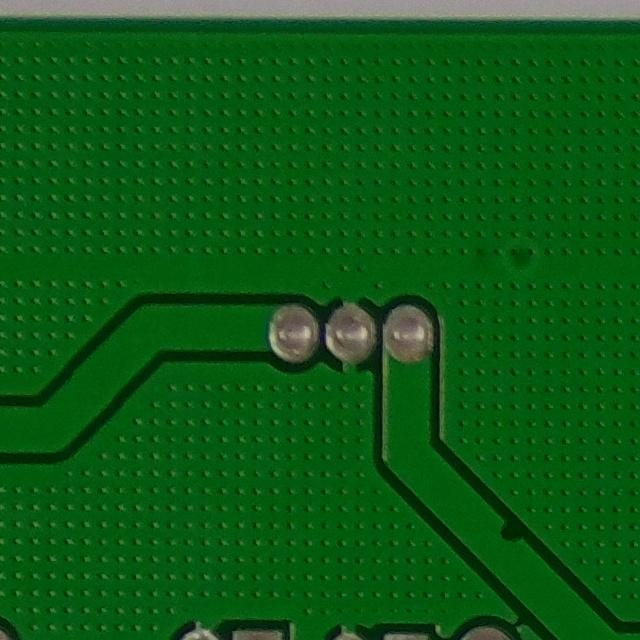mouse_bite: (479, 500, 539, 558)
